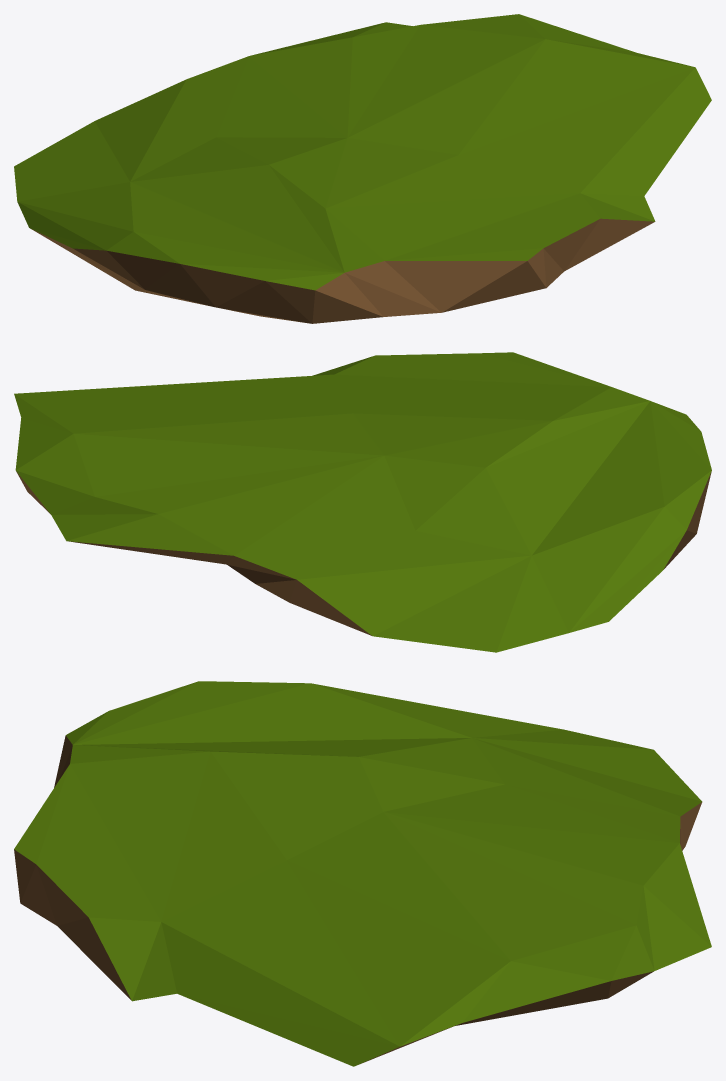
The model's file is Ground_1.glb.
3 views of the same model, one above another, from view 1: azimuth 30°, elevation 25°; view 2: azimuth 150°, elevation 25°; view 3: azimuth 270°, elevation 25° (orthographic). The views are drawn at different scales.
Parts seen in each view (by area): view 1: Ground_01; view 2: Ground_01; view 3: Ground_01.
Part boxes in pixels (x1,y1,x2,y2): Ground_01: [14, 14, 711, 323]; Ground_01: [14, 352, 711, 652]; Ground_01: [14, 681, 711, 1066].
Bounding box in the file's own units: 9.75 × 1.3 × 7.77.
